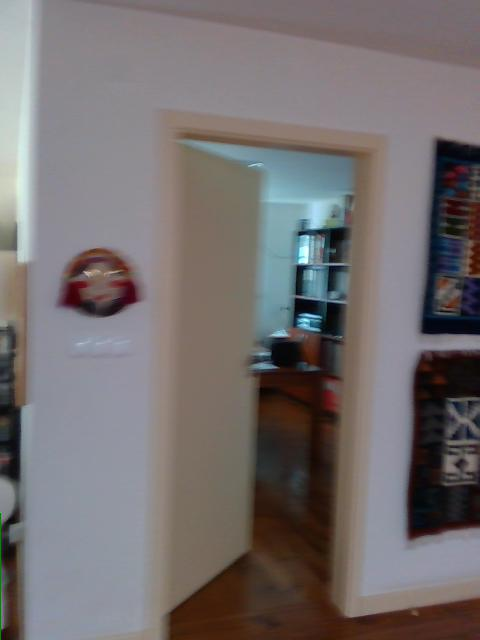semi_door: (149, 106, 390, 637)
